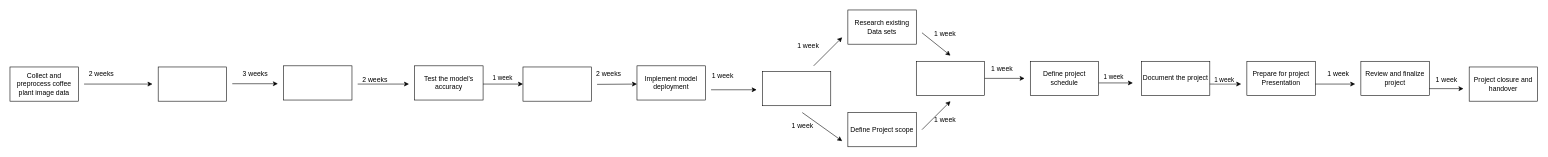
Image size: 1548x157. Some labels were removed from this diagram. Each missing label, with the centre of its shape:
Create a project Plan: the point at 950,78
Develop a deep learning model architecture: the point at 192,83
Fine-tune the model: the point at 556,83
Gather project requirements: the point at 796,88
Train the deep learning model: the point at 317,82
